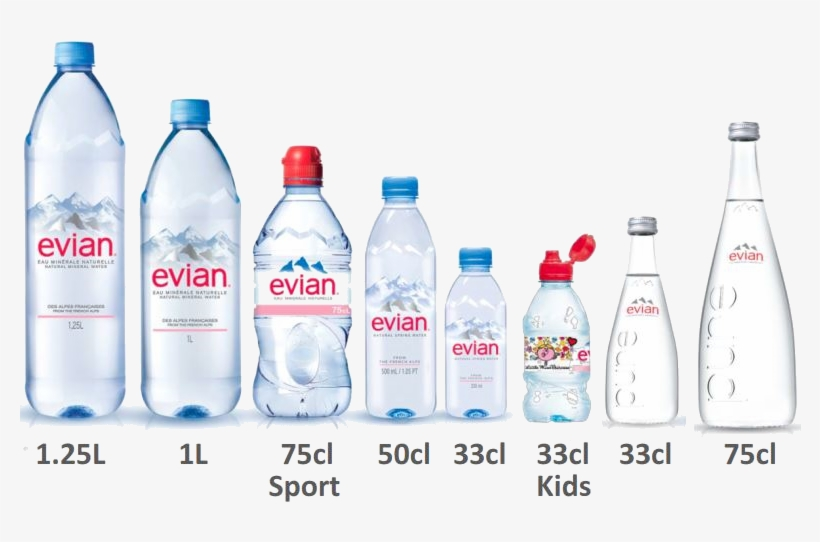GlassBottle: (696, 116, 800, 433), (603, 215, 683, 428)
PlasticBottle: (19, 33, 129, 420), (141, 93, 242, 419), (253, 142, 355, 424), (360, 172, 439, 422), (524, 234, 597, 428), (445, 252, 511, 424)
